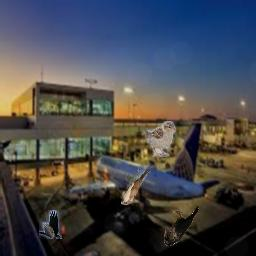Crow: (164, 206, 199, 246), (39, 210, 62, 239)
Cuckoo: (121, 165, 153, 205)
Sparrow: (136, 121, 176, 157)
